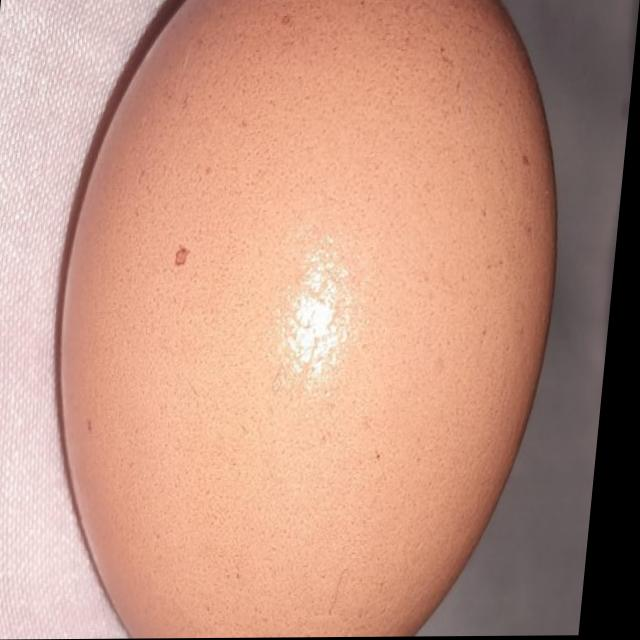unfresh: (34, 0, 592, 640)
